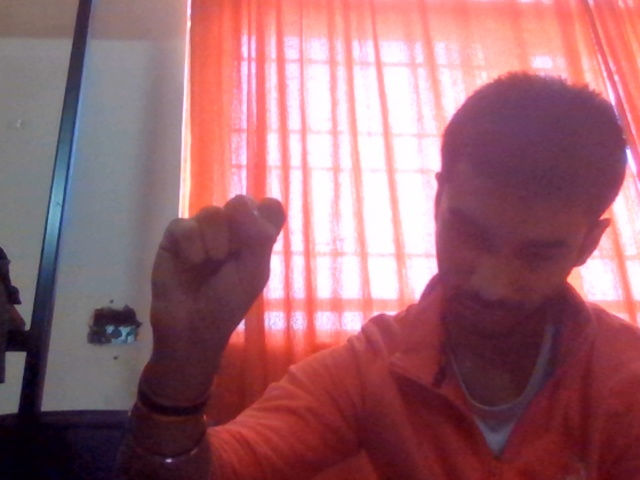S: (129, 158, 325, 393)
